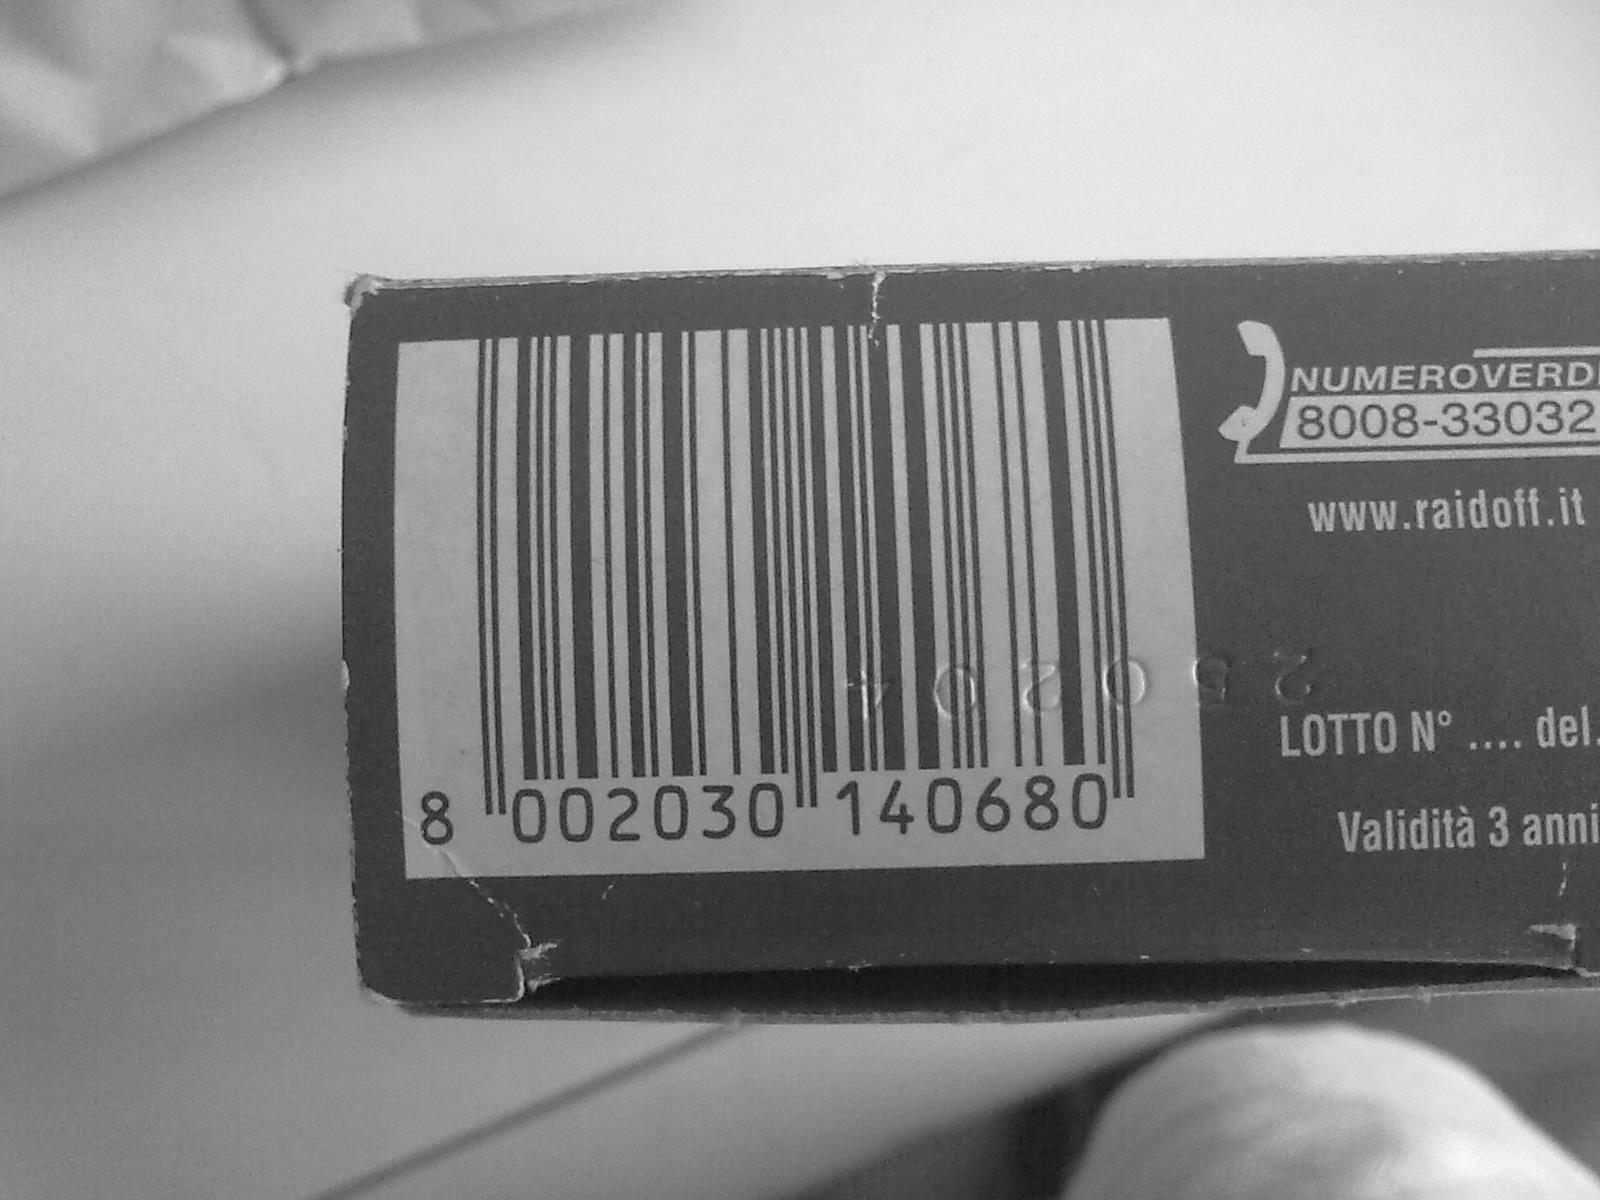Barcode: (416, 331, 1148, 856)
